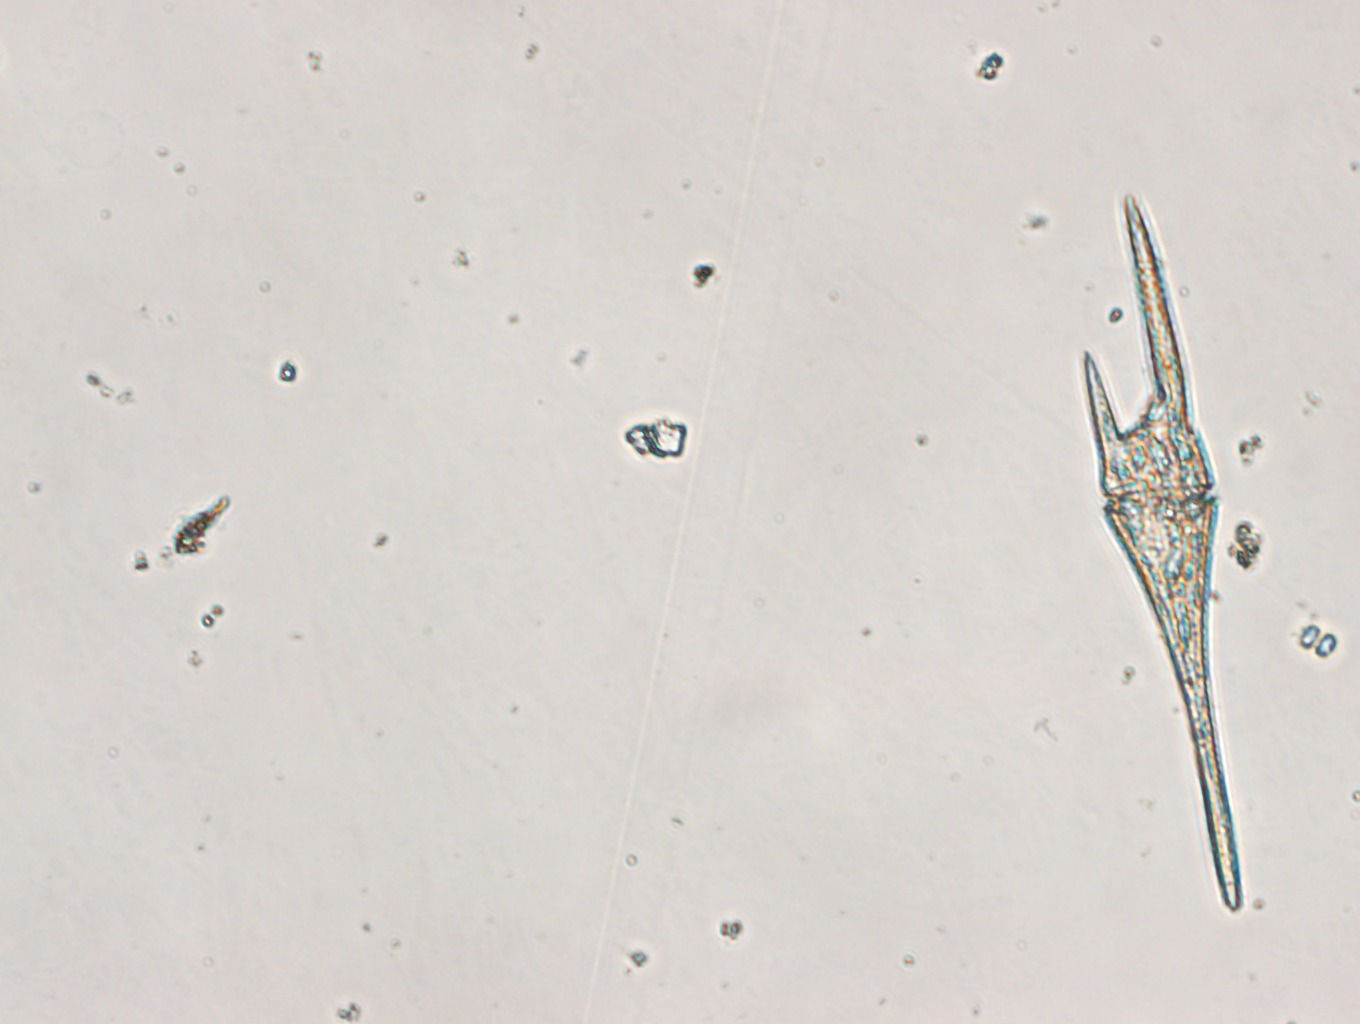ceratium furca: (1085, 193, 1245, 913)
